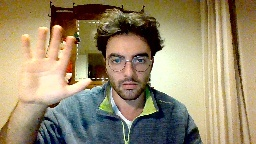Mano_aperta: (13, 21, 93, 107)
